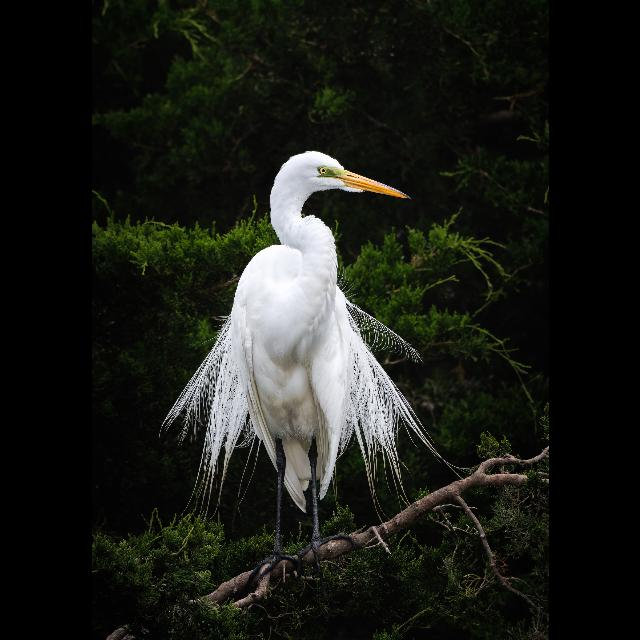egret: (168, 137, 456, 548)
